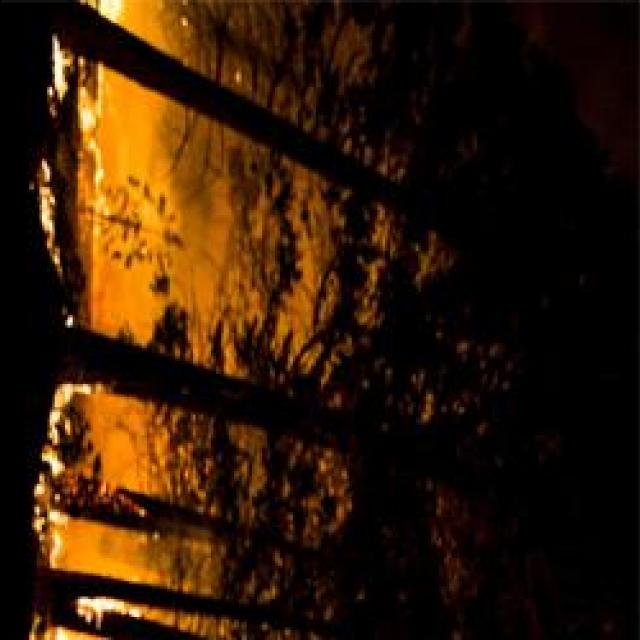fire: (48, 40, 68, 94), (82, 593, 124, 611)
